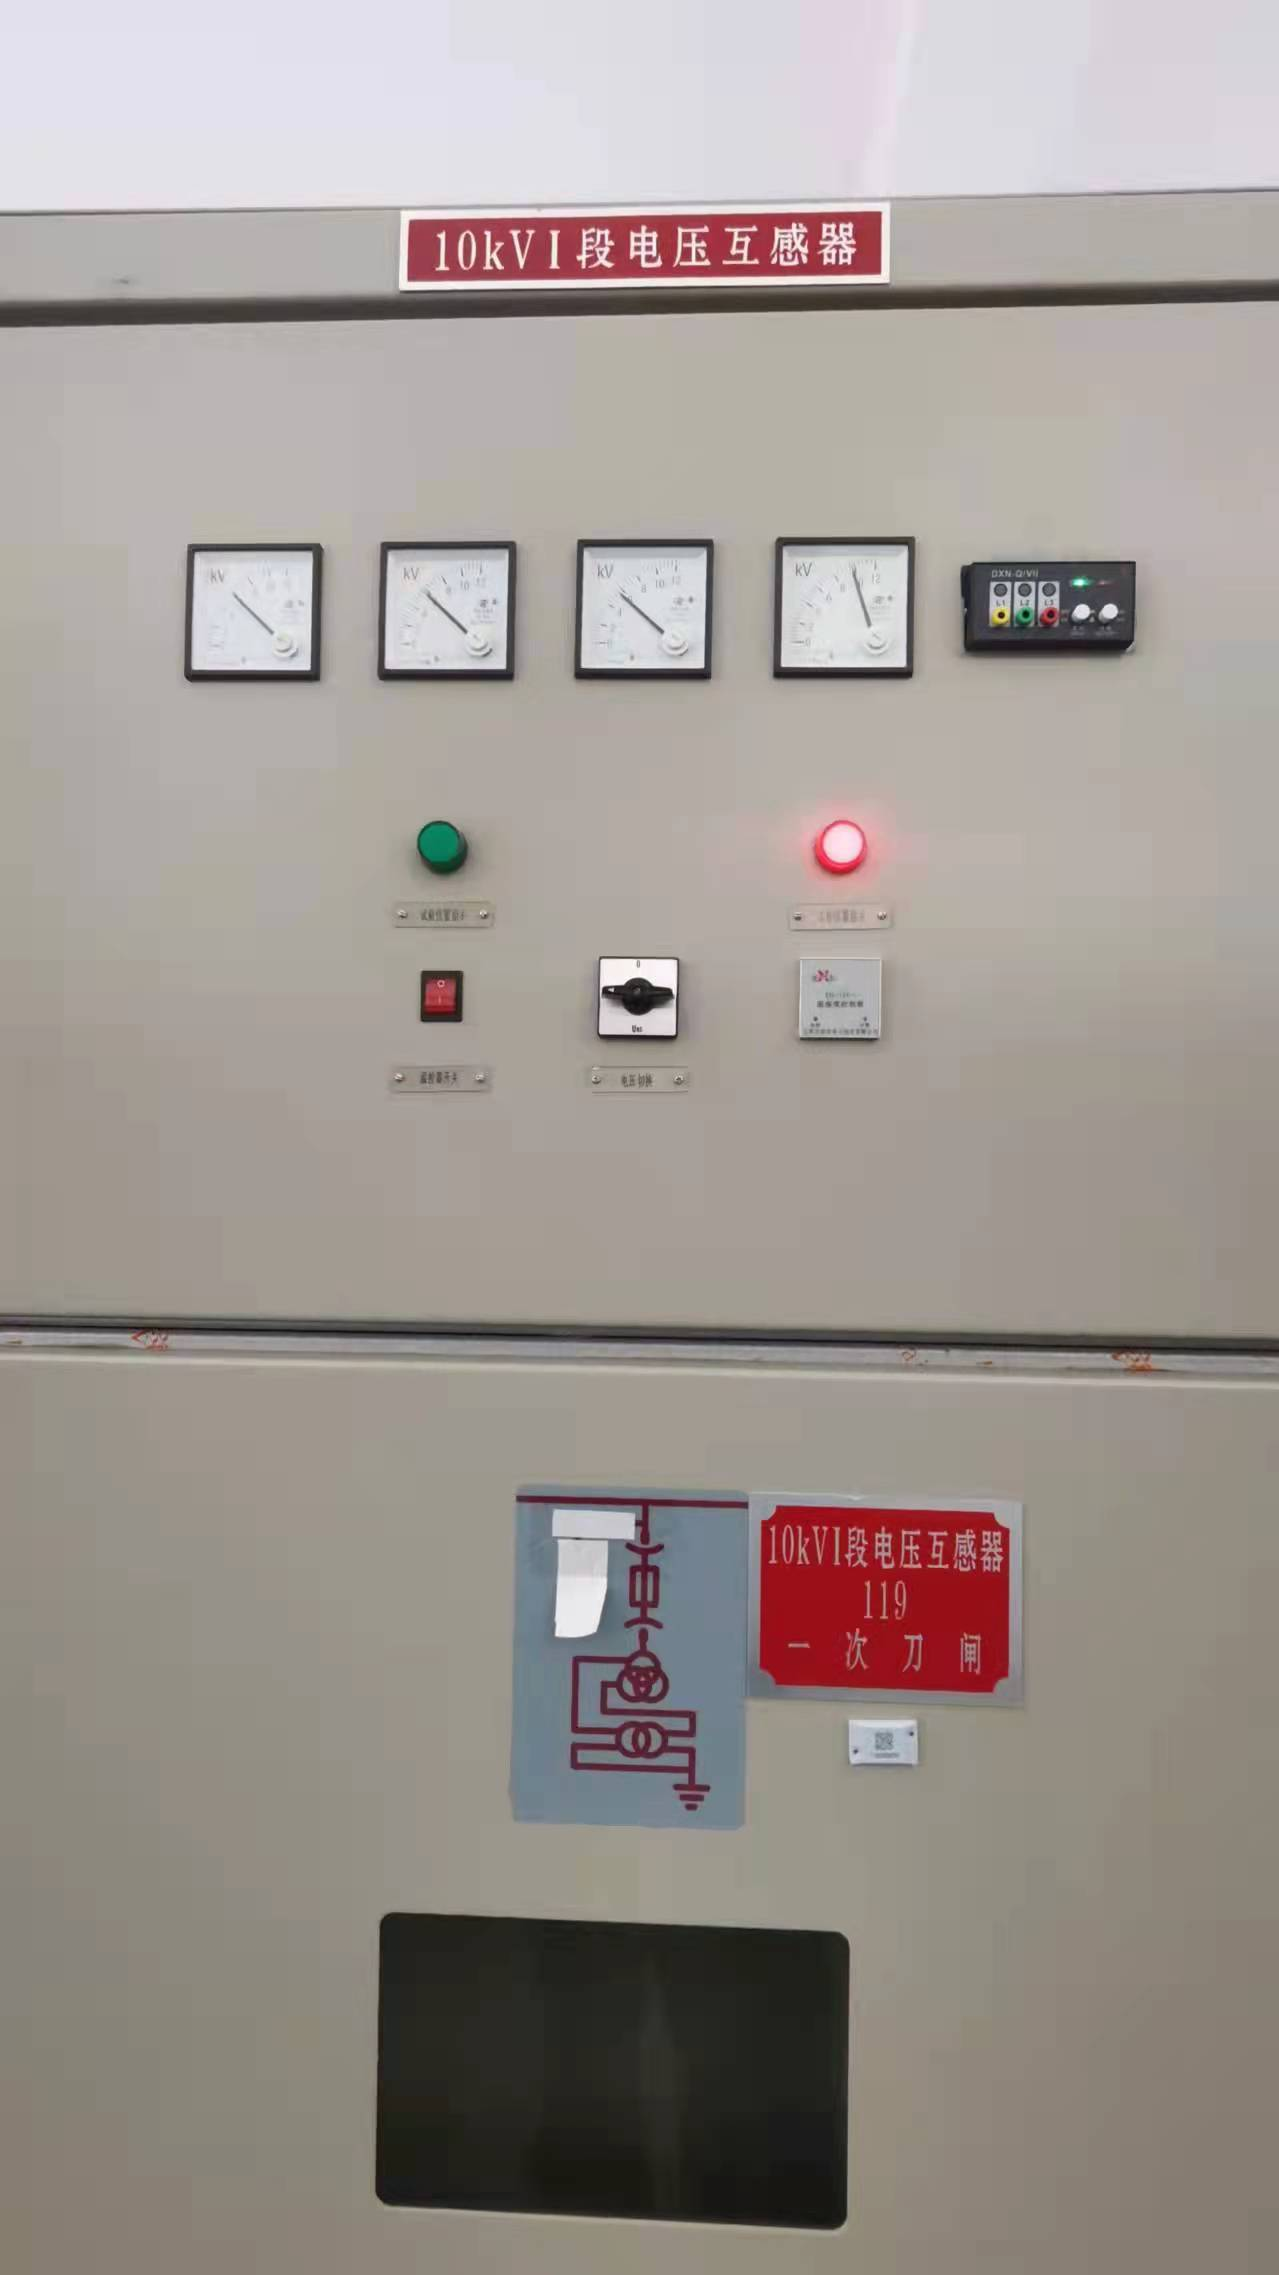pointer: (778, 534, 910, 681), (376, 544, 512, 673), (187, 545, 319, 675), (579, 536, 704, 672)
